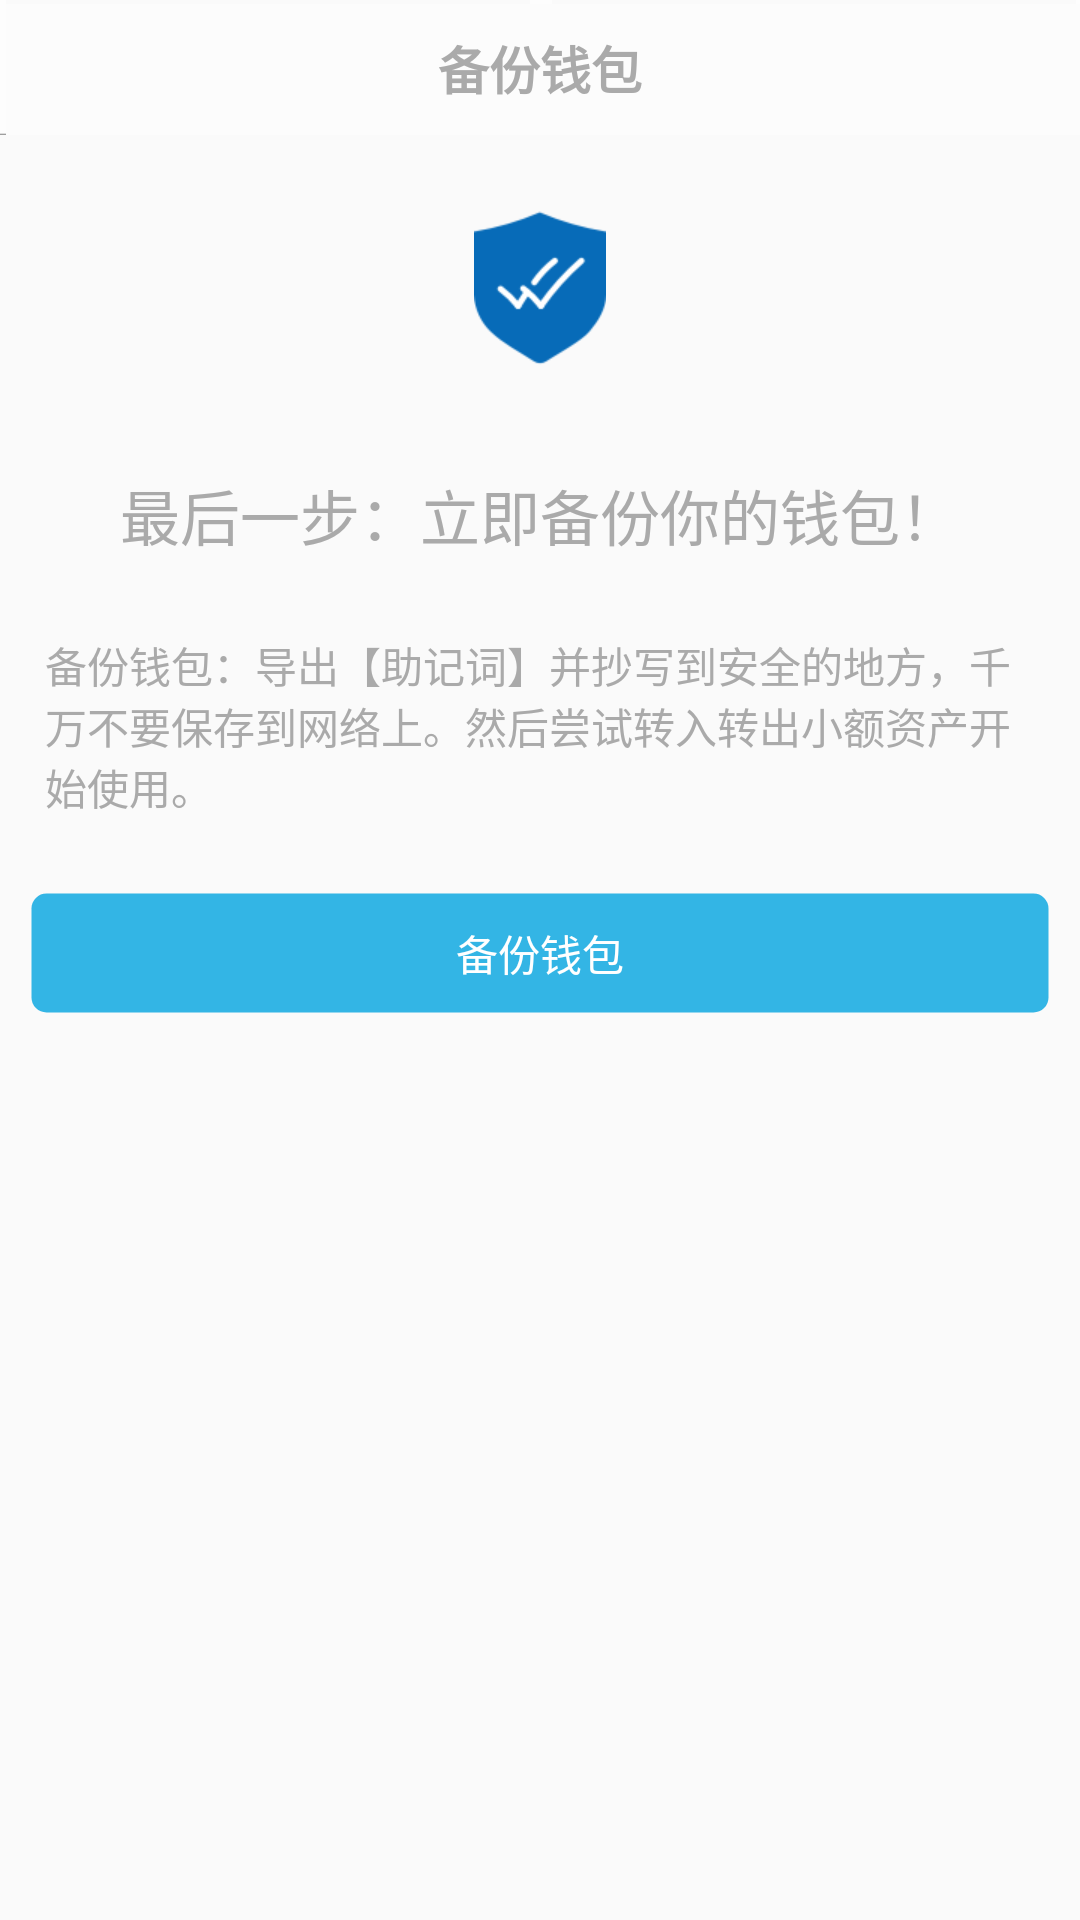

Named icons in this screenshot (1080px x 1920px) and their bounding boxes, (x1, y1, x2, y2):
wallet iconbackup: (474, 211, 606, 364)
